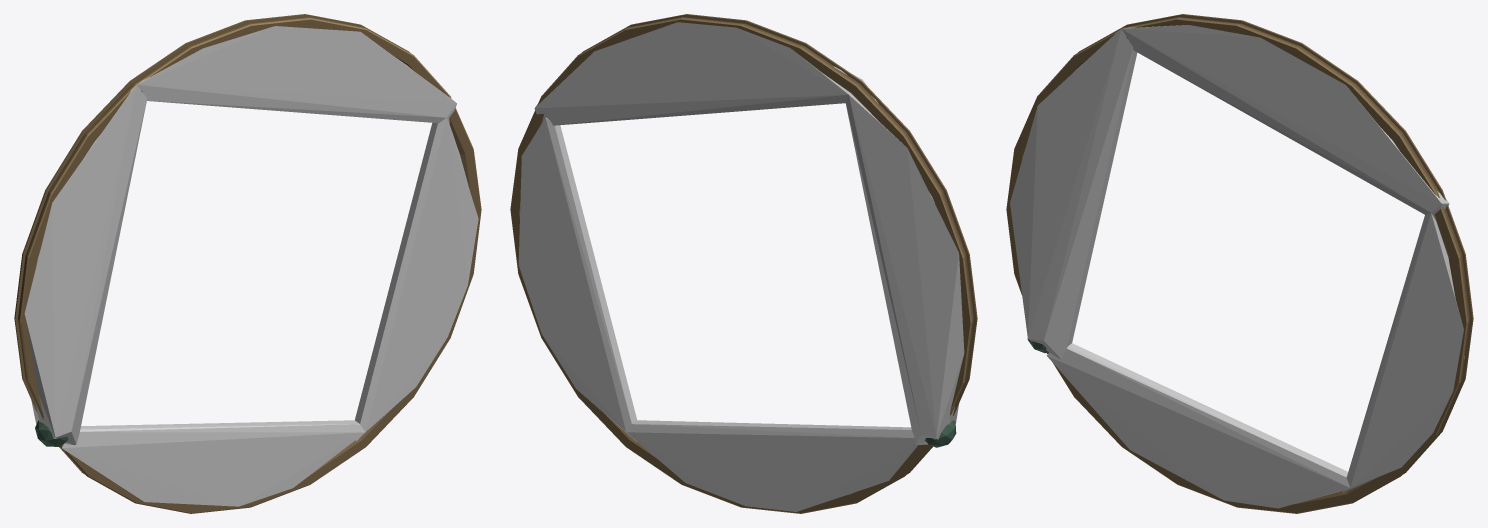
The model's file is SM_Bld_Planetarium_01_Ring_03.fbx.
3 views of the same model, side by side, from view 1: azimuth 30°, elevation 25°; view 2: azimuth 150°, elevation 25°; view 3: azimuth 330°, elevation 25° (orthographic).
Parts seen in each view (by area): view 1: SM_Bld_Planetarium_01_Ring_03_ConvexHulls, SM_Bld_Planetarium_01_Ring_03; view 2: SM_Bld_Planetarium_01_Ring_03_ConvexHulls, SM_Bld_Planetarium_01_Ring_03; view 3: SM_Bld_Planetarium_01_Ring_03_ConvexHulls, SM_Bld_Planetarium_01_Ring_03.
Part boxes in pixels (x1=…): SM_Bld_Planetarium_01_Ring_03_ConvexHulls: x1=24, y1=26, x2=478, y2=506; SM_Bld_Planetarium_01_Ring_03: x1=14, y1=14, x2=481, y2=513; SM_Bld_Planetarium_01_Ring_03_ConvexHulls: x1=518, y1=22, x2=964, y2=511; SM_Bld_Planetarium_01_Ring_03: x1=510, y1=14, x2=977, y2=513; SM_Bld_Planetarium_01_Ring_03_ConvexHulls: x1=1010, y1=25, x2=1464, y2=508; SM_Bld_Planetarium_01_Ring_03: x1=1006, y1=14, x2=1473, y2=513.
Bounding box in the file's own units: 704 × 51.58 × 704.
Materials: 2 (1 with a texture image).
